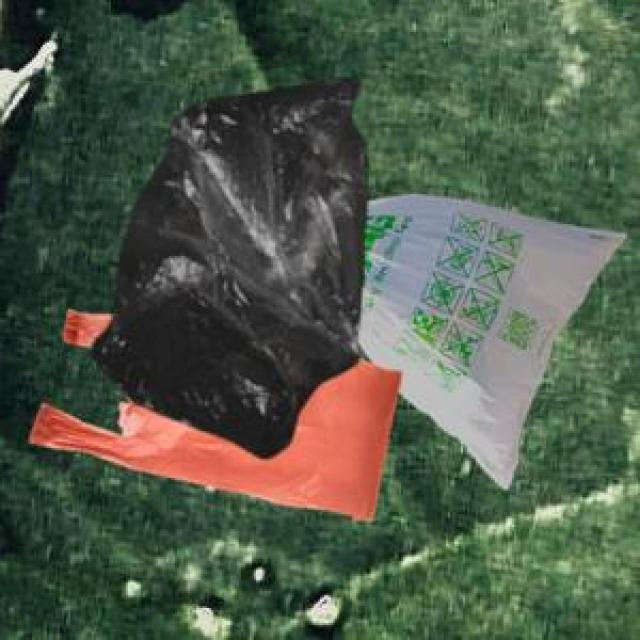waste: (30, 198, 622, 519), (94, 81, 364, 456)
